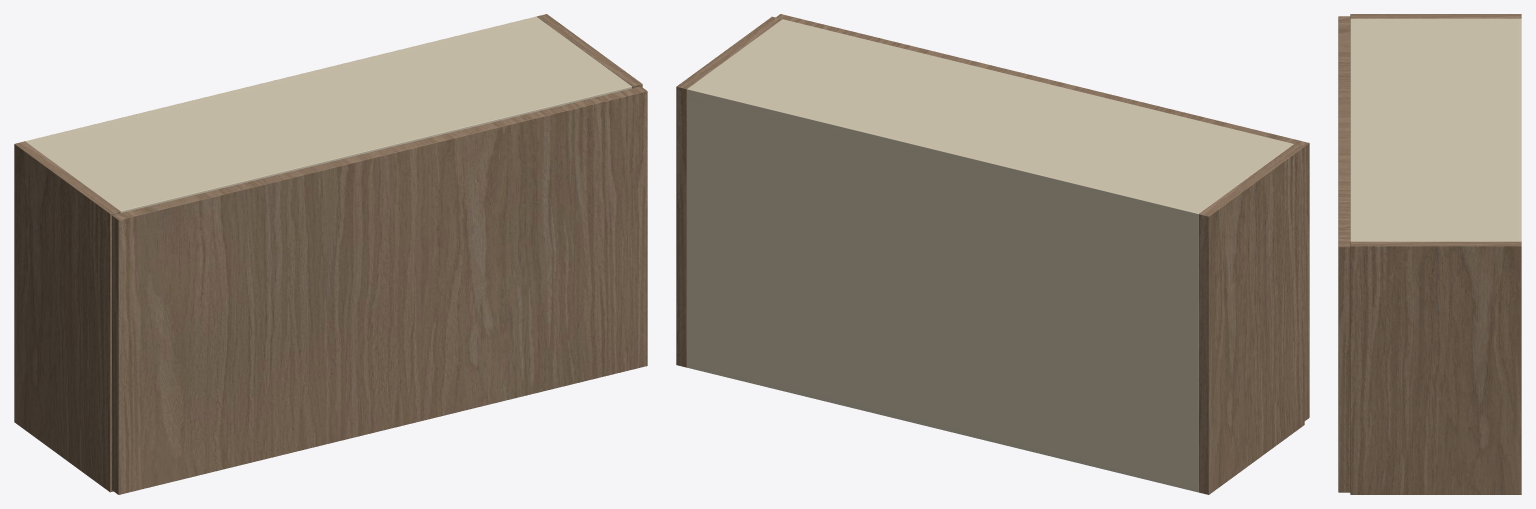
The model's file is oppein-ply-mnw-wsl3618.glb.
3 renders of one model, left to right at view 1: azimuth 30°, elevation 25°; view 2: azimuth 150°, elevation 25°; view 3: azimuth 270°, elevation 25°, orthographic. The views are drawn at different scales.
Visible parts, largest first — view 1: Door, Cabinet top, Cabinet side, Cabinet back, Cabinet side.001; view 2: Cabinet back, Cabinet top, Cabinet side, Door, Cabinet side.001, Cabinet bottom; view 3: Cabinet side.001, Cabinet top, Door, Cabinet back, Cabinet side.
Part boxes in pixels (x1,y1,x2,y2): Door: (112, 86, 647, 494); Cabinet top: (29, 19, 631, 213); Cabinet side: (14, 141, 120, 492); Cabinet back: (25, 16, 539, 143); Cabinet side.001: (537, 14, 642, 88); Cabinet back: (687, 86, 1201, 492); Cabinet top: (687, 19, 1293, 221); Cabinet side: (1198, 144, 1304, 494); Door: (776, 14, 1309, 420); Cabinet side.001: (676, 16, 781, 367); Cabinet bottom: (687, 357, 1198, 491); Cabinet side.001: (1350, 241, 1521, 494); Cabinet top: (1350, 18, 1521, 241); Door: (1338, 16, 1350, 492); Cabinet back: (1514, 18, 1521, 241); Cabinet side: (1350, 14, 1521, 18).
Bounding box in the file's own units: 0.9144 × 0.4572 × 0.3048.
2 materials, 1 textured.
